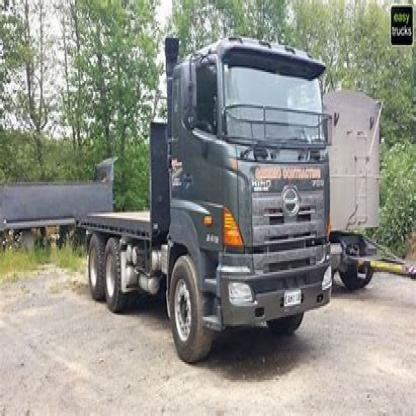dump_truck: (87, 27, 336, 360)
